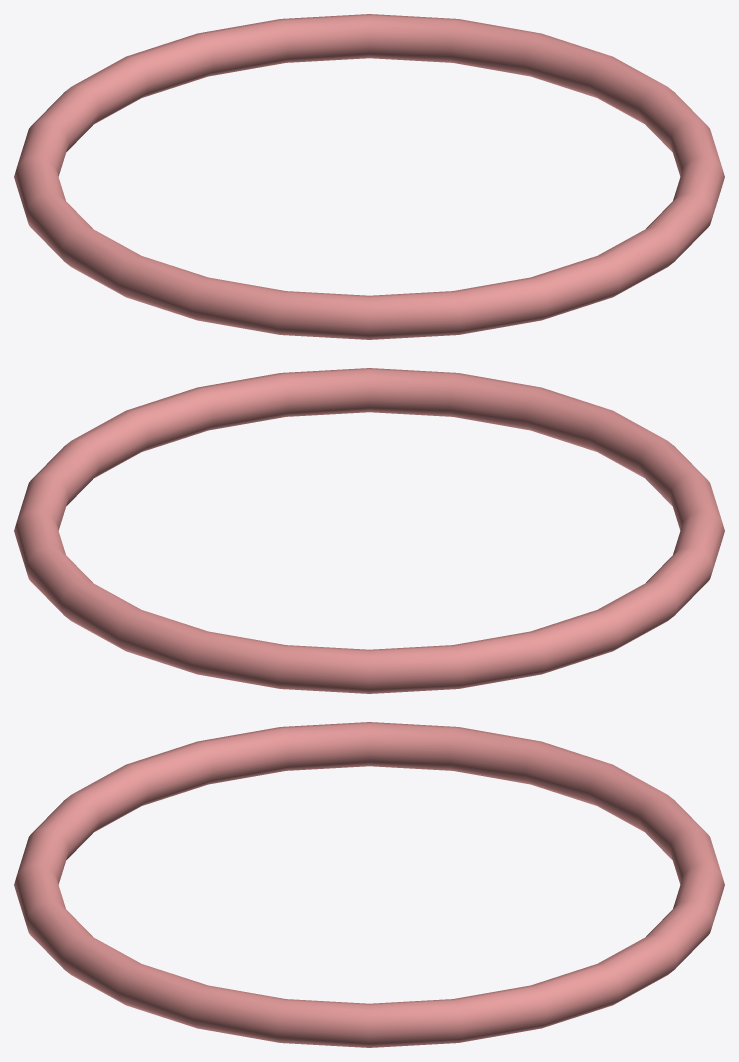
The model's file is fiah.obj.
3 views of the same model, one above another, from view 1: azimuth 30°, elevation 25°; view 2: azimuth 150°, elevation 25°; view 3: azimuth 270°, elevation 25° (orthographic).
Visible parts, largest first — view 1: Torus001; view 2: Torus001; view 3: Torus001.
Part boxes in pixels (x1,y1,x2,y2): Torus001: [14, 14, 724, 339]; Torus001: [14, 368, 724, 693]; Torus001: [14, 722, 724, 1047].
Size of the model in its own units: 160 by 10 by 160.
